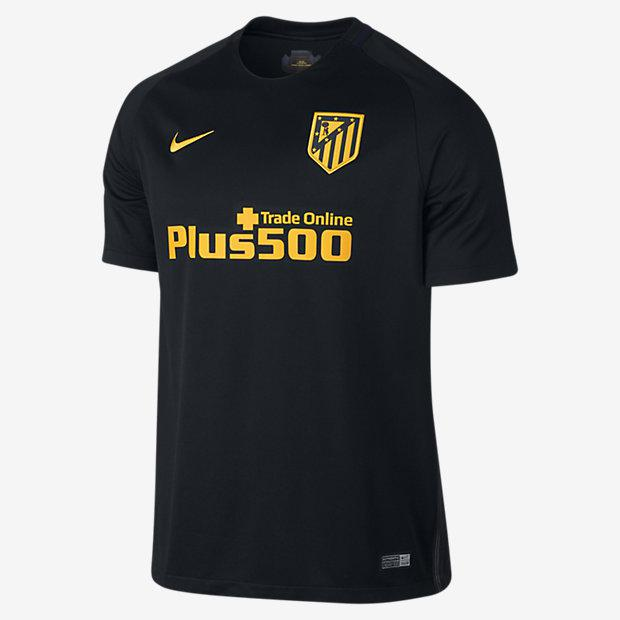teeshirt: (83, 9, 538, 620)
